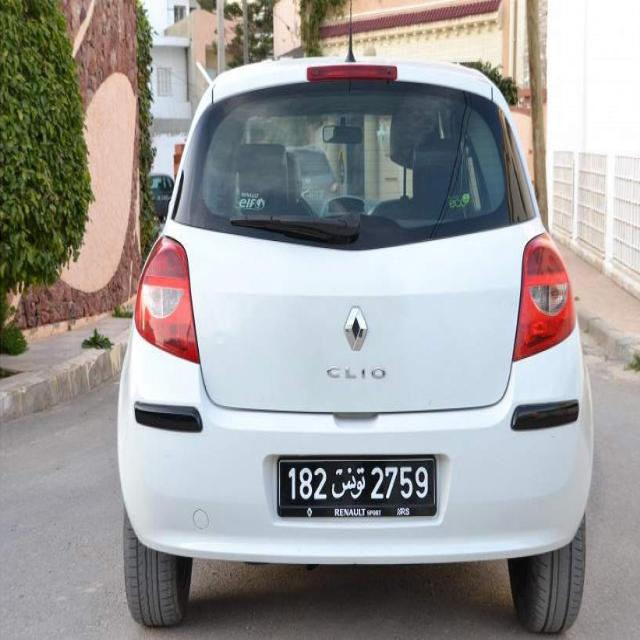licence plate: (280, 460, 435, 506)
